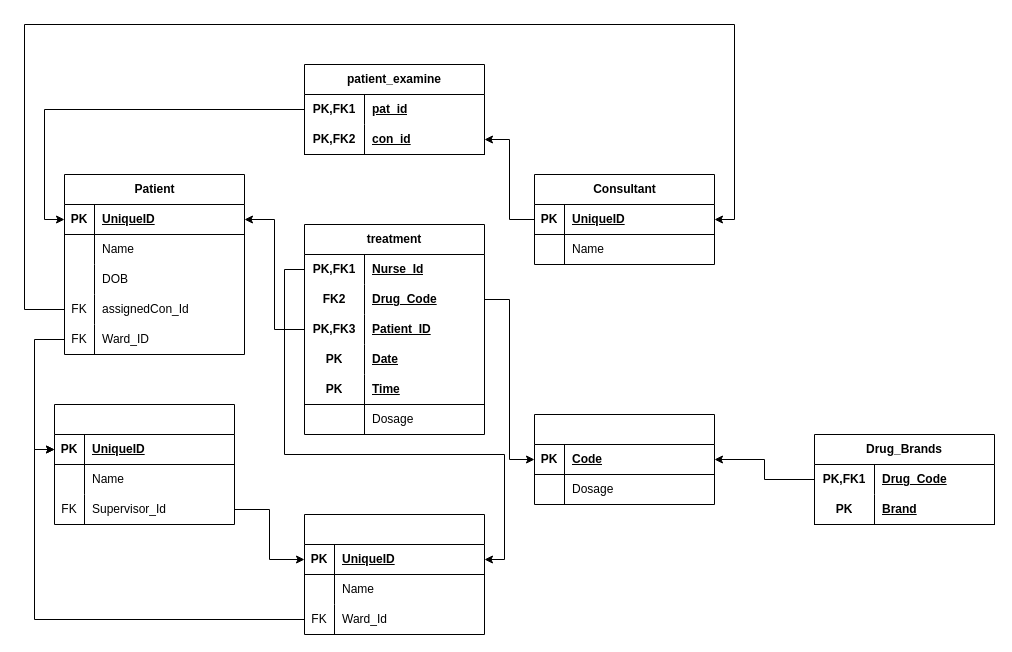
Some shapes in this 1012 by 652 pixel diagram are drawn without their labels. The shapes that lost their labels are listed below. From the top down, each one's box as (x1, y1, x2, y2) in pixels, then its label:
(54, 404, 234, 524): Ward
(534, 414, 714, 504): Drug
(304, 514, 484, 634): Nurse
